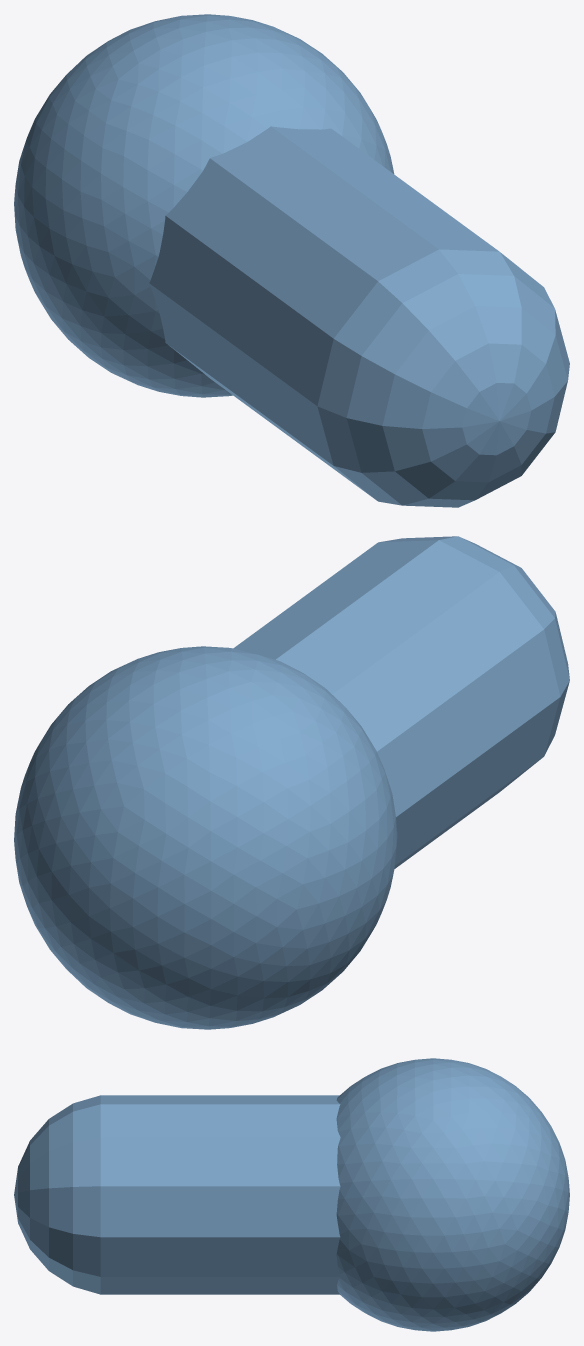
The picture shows the model from 3 angles, top to bottom: view 1: azimuth 30°, elevation 25°; view 2: azimuth 150°, elevation 25°; view 3: azimuth 270°, elevation 25°; orthographic projection. The views are drawn at different scales.
Visible parts, largest first — view 1: world; view 2: world; view 3: world.
Part boxes in pixels (x1,y1,x2,y2): world: (14,14,569,507); world: (14,536,569,1029); world: (14,1058,569,1331).
Size of the model in its own units: 0.092 by 0.092 by 0.187.
